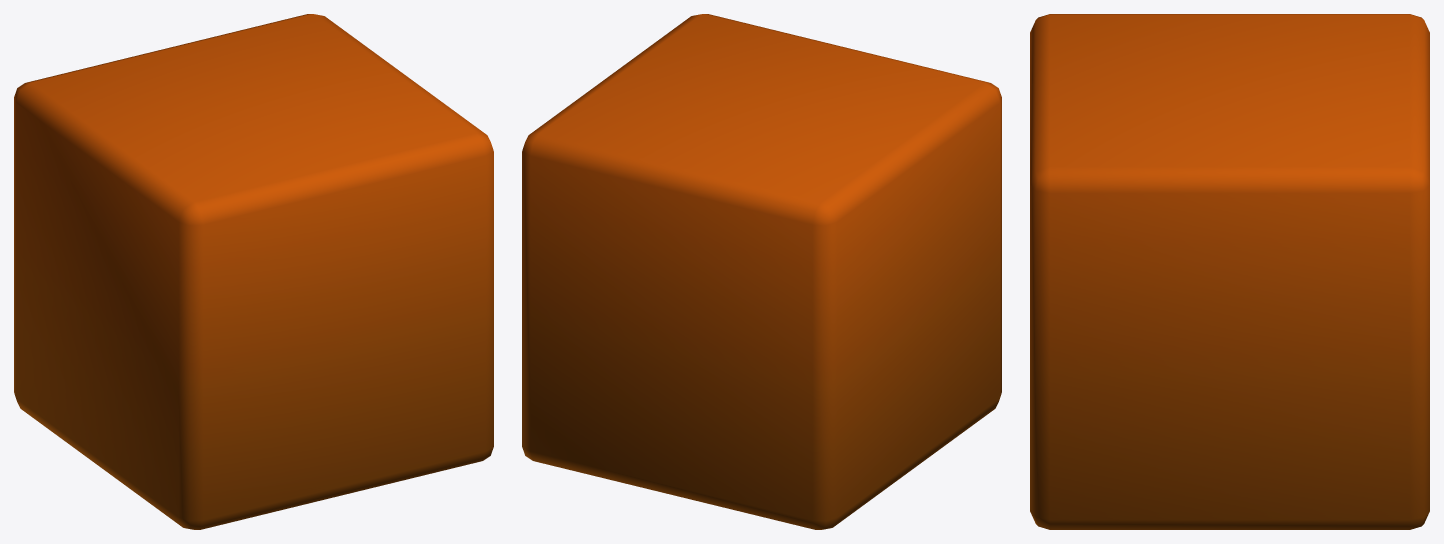
The model's file is 3D_Tile_Ground_04.glb.
3 views of the same model, side by side, from view 1: azimuth 30°, elevation 25°; view 2: azimuth 150°, elevation 25°; view 3: azimuth 270°, elevation 25° (orthographic). The views are drawn at different scales.
Visible parts, largest first — view 1: 3D_Tile_Ground_04; view 2: 3D_Tile_Ground_04; view 3: 3D_Tile_Ground_04.
Boxes of the visible parts, left/top/right/bottom form: 3D_Tile_Ground_04: left=14, top=14, right=493, bottom=529; 3D_Tile_Ground_04: left=522, top=14, right=1001, bottom=529; 3D_Tile_Ground_04: left=1030, top=14, right=1429, bottom=529.
Size of the model in its own units: 2 by 2 by 2.
1 material, 1 textured.
